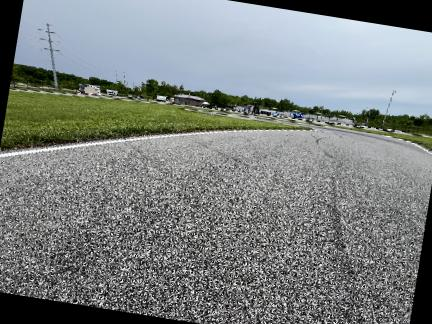Grass: (0, 92, 308, 149), (314, 124, 431, 150)
Lane: (0, 126, 431, 323)
